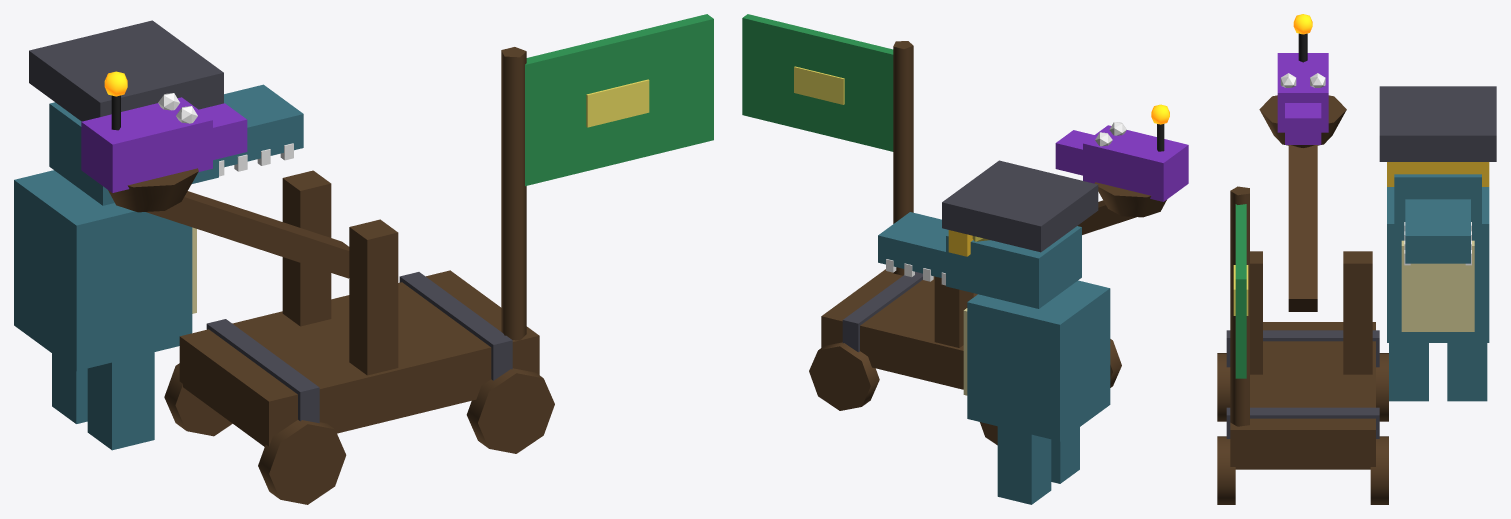
The model's file is level2.glb.
3 views of the same model, side by side, from view 1: azimuth 30°, elevation 25°; view 2: azimuth 150°, elevation 25°; view 3: azimuth 270°, elevation 25° (orthographic). The views are drawn at different scales.
Visible parts, largest first — view 1: object 21, object 3, object 32, arm, object 20, object 27, object 31, object 2, object 26, object 23, object 25, object 6 (+6 smaller); view 2: object 3, object 32, arm, object 20, object 21, object 5, object 31, object 1, object 24, object 6, object 26, object 29 (+3 smaller); view 3: object 21, arm, object 20, object 4, object 3, object 6, object 26, object 5, object 31, object 1, object 2, object 32 (+8 smaller).
Part boxes in pixels (bbox=[...]): object 21: bbox=[179, 270, 539, 446]; object 3: bbox=[14, 170, 192, 370]; object 32: bbox=[525, 14, 713, 186]; arm: bbox=[81, 71, 349, 278]; object 20: bbox=[29, 20, 223, 121]; object 27: bbox=[349, 219, 398, 375]; object 31: bbox=[501, 47, 526, 340]; object 2: bbox=[87, 352, 154, 450]; object 26: bbox=[282, 170, 331, 326]; object 23: bbox=[258, 420, 346, 504]; object 25: bbox=[466, 368, 554, 453]; object 6: bbox=[219, 84, 303, 167]; object 3: bbox=[967, 280, 1110, 441]; object 32: bbox=[742, 14, 893, 151]; arm: bbox=[1055, 104, 1188, 234]; object 20: bbox=[942, 160, 1098, 252]; object 21: bbox=[821, 269, 977, 389]; object 5: bbox=[946, 226, 1081, 308]; object 31: bbox=[893, 41, 913, 275]; object 1: bbox=[997, 426, 1051, 504]; object 24: bbox=[809, 342, 879, 410]; object 6: bbox=[878, 212, 948, 277]; object 26: bbox=[934, 276, 973, 347]; object 29: bbox=[842, 271, 922, 352]; object 21: bbox=[1230, 322, 1375, 469]; arm: bbox=[1259, 14, 1346, 311]; object 20: bbox=[1379, 86, 1496, 161]; object 4: bbox=[1401, 240, 1474, 331]; object 3: bbox=[1387, 187, 1489, 342]; object 6: bbox=[1405, 199, 1470, 263]; object 26: bbox=[1343, 251, 1372, 374]; object 5: bbox=[1394, 174, 1481, 228]; object 31: bbox=[1230, 186, 1249, 426]; object 1: bbox=[1447, 343, 1487, 401]; object 2: bbox=[1389, 343, 1428, 401]; object 32: bbox=[1235, 204, 1246, 378].
Size of the model in its own units: 1.67 by 1.19 by 0.8568.
